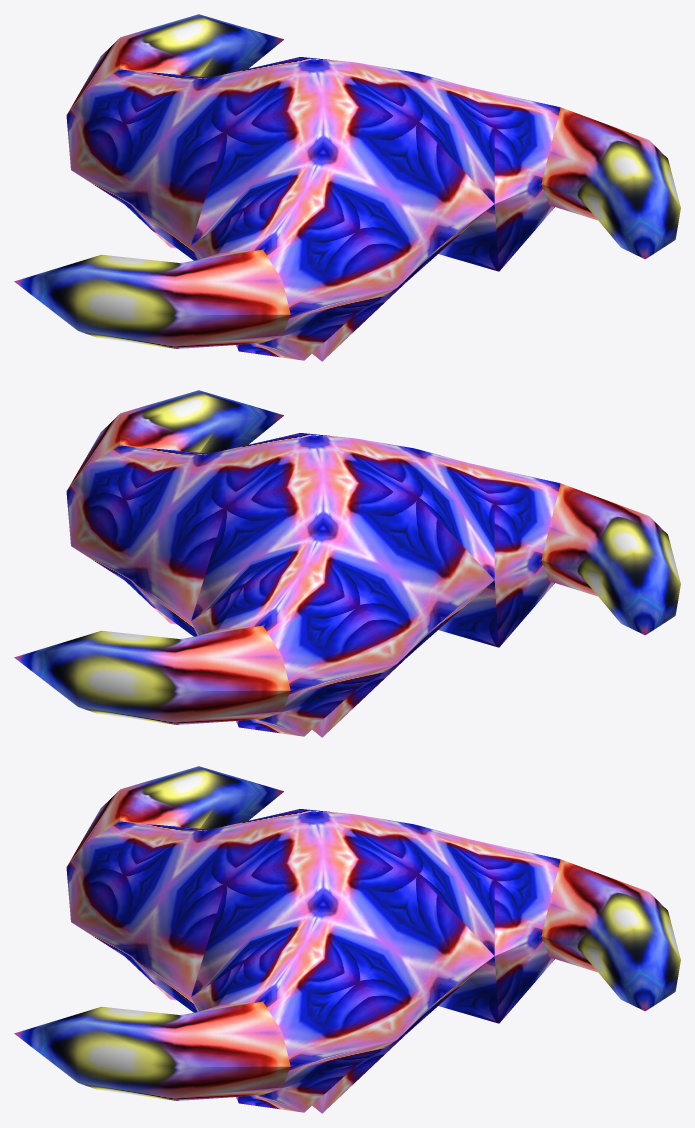
Rendered from ufo-16.fbx.
The picture shows the model from 3 angles, top to bottom: view 1: azimuth 30°, elevation 25°; view 2: azimuth 150°, elevation 25°; view 3: azimuth 270°, elevation 25°; orthographic projection.
Visible parts, largest first — view 1: ufo-16; view 2: ufo-16; view 3: ufo-16.
Boxes of the visible parts, <box> form: ufo-16: <box>14,14,680,361</box>; ufo-16: <box>14,390,680,737</box>; ufo-16: <box>14,766,680,1113</box>.
Size of the model in its own units: 57.25 by 25.9 by 55.17.
